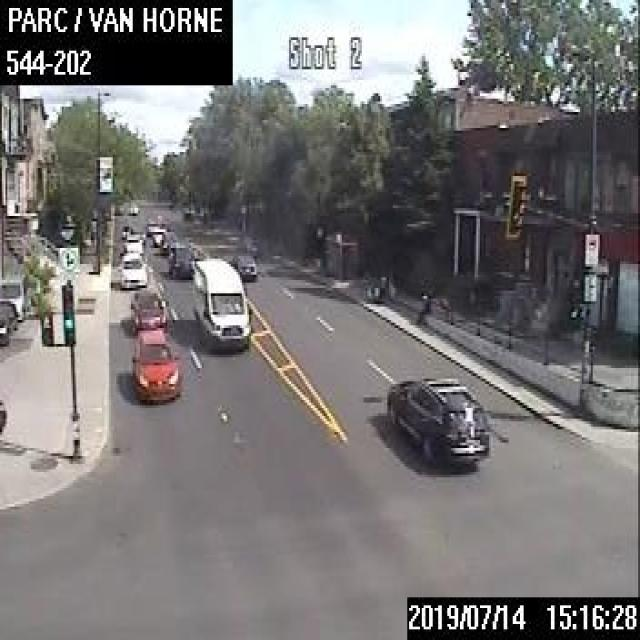pedestrian: (411, 291, 431, 328)
vehicle: (385, 373, 489, 467), (191, 255, 251, 350), (130, 327, 179, 402), (128, 289, 168, 330), (0, 270, 27, 318), (116, 250, 148, 288), (166, 241, 192, 276), (0, 299, 18, 344), (231, 253, 255, 278), (122, 232, 143, 252), (159, 230, 178, 250), (150, 226, 166, 244), (144, 217, 158, 234), (0, 395, 5, 433), (127, 198, 138, 214)
